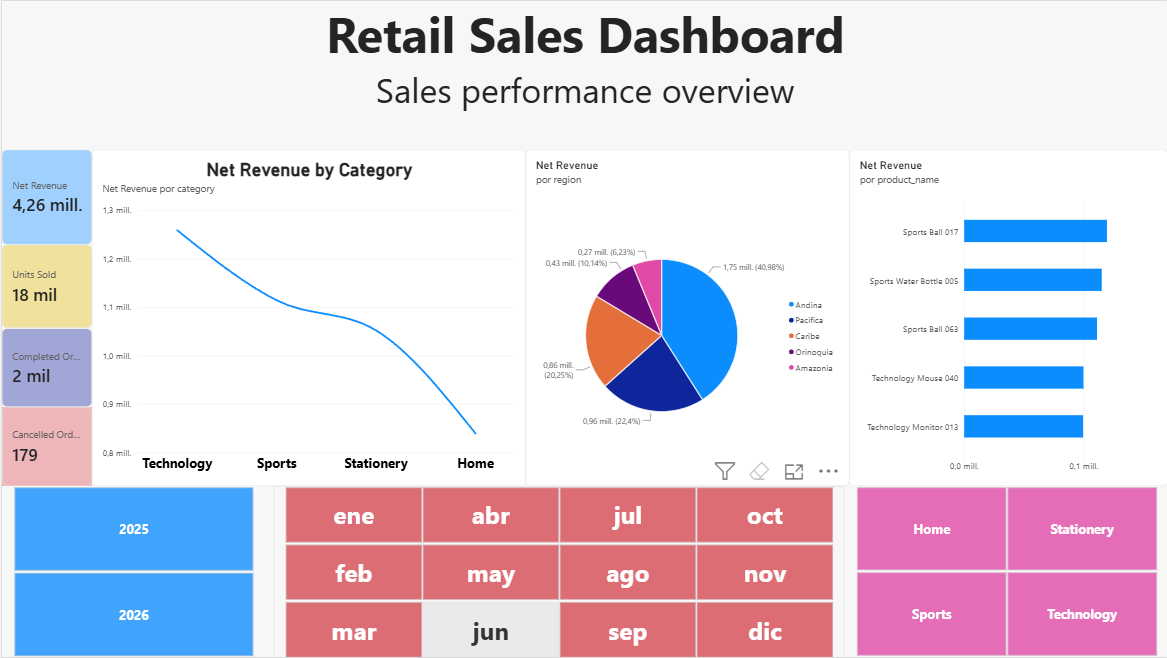

The dashboard page shown, as its layout file describes it:
{"tool":"powerbi","page":{"name":"Sales Overview","canvas":[1920,1080],"ordinal":0},"visuals":[{"type":"cardVisual","fields":{"Data":["public order_items.Net Revenue"]},"box":[0,244.9,148.2,156.4],"z":0},{"type":"cardVisual","fields":{"Data":["public order_items.Completed Orders"]},"box":[0,539.3,148.2,129.7],"z":1},{"type":"cardVisual","fields":{"Data":["public order_items.Units Sold"]},"box":[0,401.4,148.2,137.9],"z":2},{"type":"lineChart","title":"Net Revenue by Category","fields":{"Category":["public products.category"],"Y":["public order_items.Net Revenue"]},"box":[148.2,244.9,714.2,553.7],"z":3},{"type":"textbox","box":[0,0,1920.4,189.4],"z":4},{"type":"pieChart","fields":{"Category":["public customers.region"],"Y":["public order_items.Net Revenue"]},"box":[862.4,244.9,533.1,553.7],"z":5},{"type":"cardVisual","fields":{"Data":["public order_items.Cancelled Orders"]},"box":[0,669,148.2,129.7],"z":6},{"type":"clusteredBarChart","fields":{"Category":["public products.product_name"],"Y":["public order_items.Net Revenue"]},"box":[1395.5,244.9,524.9,553.7],"z":7},{"type":"slicer","fields":{"Values":["Calendar.Year"]},"box":[0,798.6,432.2,282],"z":8},{"type":"slicer","fields":{"Values":["Calendar.Month"]},"box":[446.7,798.6,940.7,284],"z":9},{"type":"slicer","fields":{"Values":["public products.category"]},"box":[1387.3,798.6,533,281],"z":10}]}

Visuals, with their boxes in screenshot pixels (x1, y1, x2, y2), scaled from the page's 1920x1080 canvas onto the 1167x658 screenshot:
cardVisual - public order_items.Net Revenue: box(0, 149, 90, 244)
cardVisual - public order_items.Completed Orders: box(0, 329, 90, 408)
cardVisual - public order_items.Units Sold: box(0, 245, 90, 329)
"Net Revenue by Category" lineChart: box(90, 149, 524, 487)
textbox: box(0, 0, 1166, 115)
pieChart - public customers.region x public order_items.Net Revenue: box(524, 149, 848, 487)
cardVisual - public order_items.Cancelled Orders: box(0, 408, 90, 487)
clusteredBarChart - public products.product_name x public order_items.Net Revenue: box(848, 149, 1166, 487)
slicer - Calendar.Year: box(0, 487, 263, 657)
slicer - Calendar.Month: box(272, 487, 843, 657)
slicer - public products.category: box(843, 487, 1166, 657)
